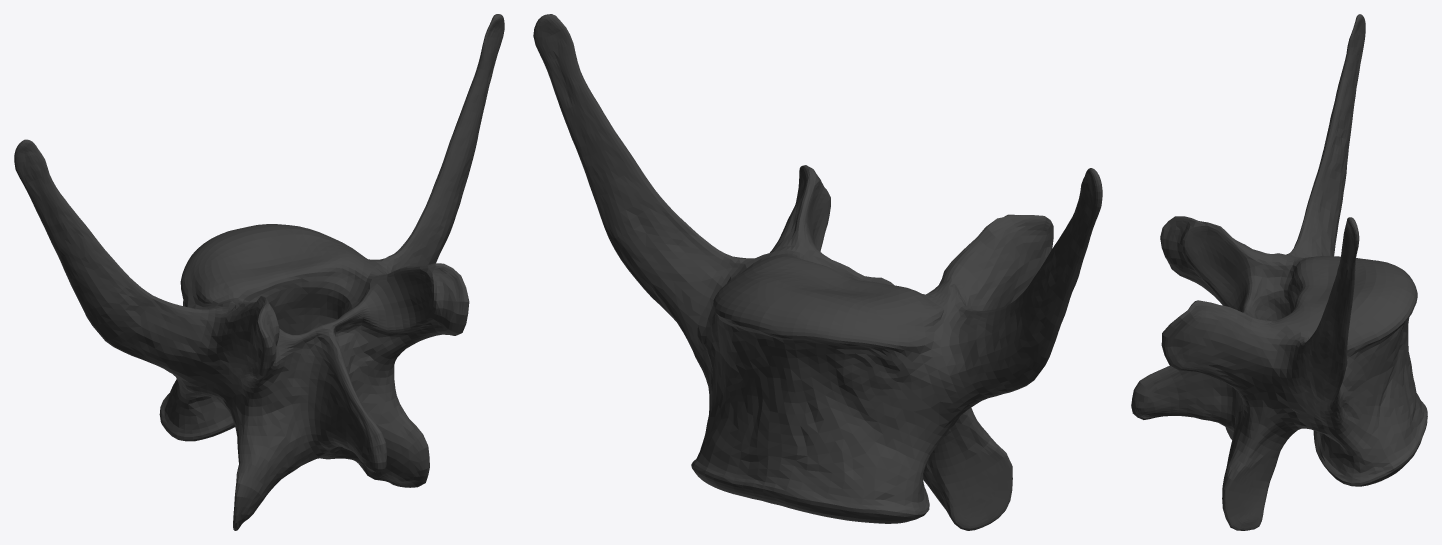
3 renders of one model, left to right at view 1: azimuth 30°, elevation 25°; view 2: azimuth 150°, elevation 25°; view 3: azimuth 270°, elevation 25°, orthographic. The views are drawn at different scales.
Parts seen in each view (by area): view 1: l7_low; view 2: l7_low; view 3: l7_low.
Part boxes in pixels (x1,y1,x2,y2): l7_low: (14,14,504,530); l7_low: (533,14,1102,530); l7_low: (1131,14,1427,530).
Size of the model in its own units: 74.72 by 58.69 by 41.27.
Materials: 1 (1 with a texture image).
